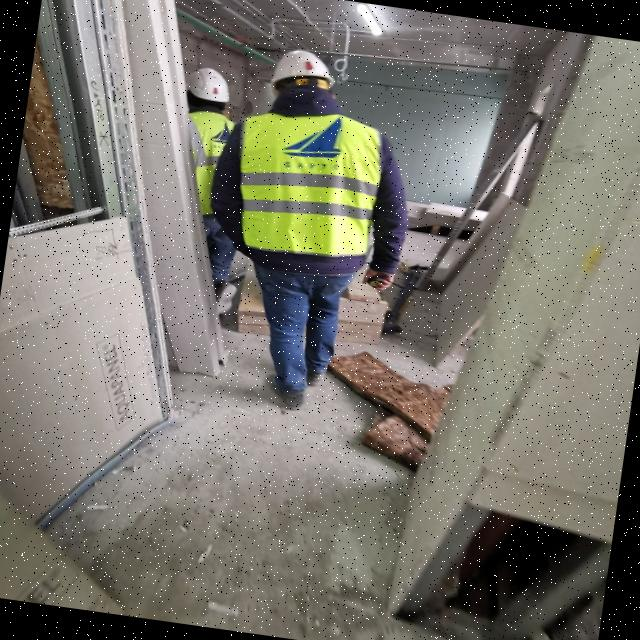Helmet: (268, 47, 343, 97), (186, 66, 232, 105)
Jacket: (231, 109, 384, 266), (187, 112, 235, 206)
